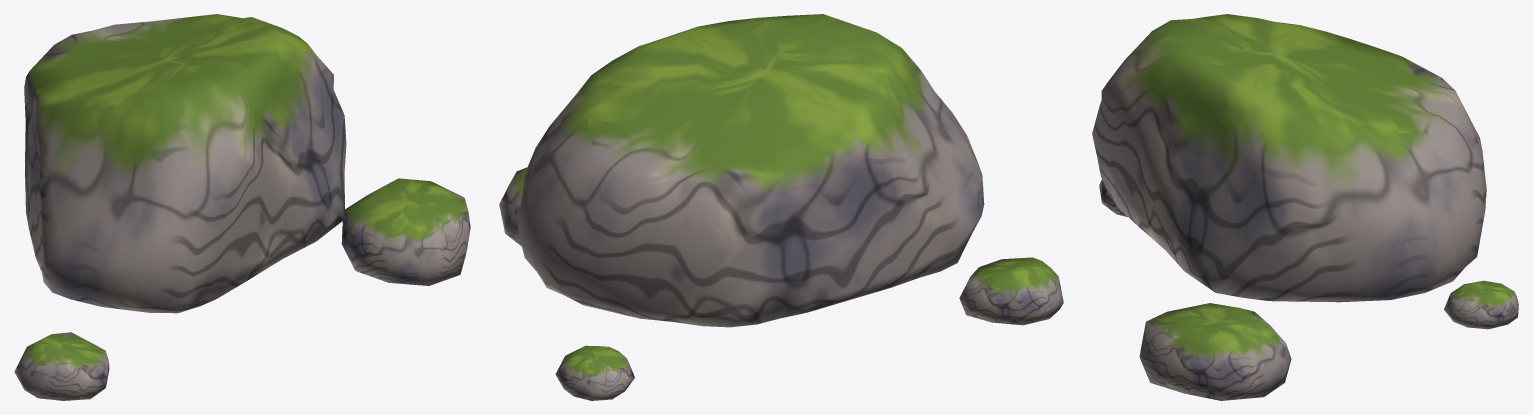
File: rocher_2.glb
3 views of the same model, side by side, from view 1: azimuth 30°, elevation 25°; view 2: azimuth 150°, elevation 25°; view 3: azimuth 270°, elevation 25° (orthographic). The views are drawn at different scales.
Parts seen in each view (by area): view 1: rocher_2; view 2: rocher_2; view 3: rocher_2.
Boxes of the visible parts, x1,y1,x2,y2 form: rocher_2: (14,14,470,400); rocher_2: (499,14,1063,400); rocher_2: (1092,14,1518,400).
Bounding box in the file's own units: 1.68 × 0.8279 × 1.3.
1 material, 1 textured.
